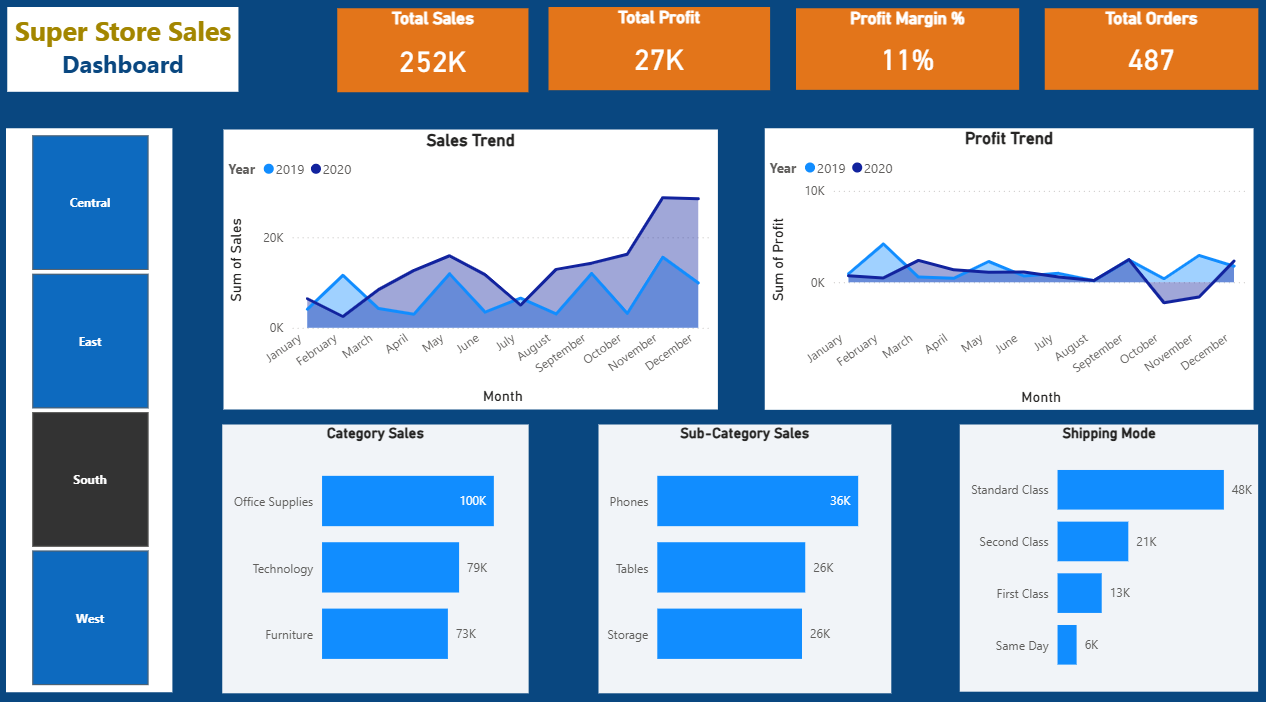

Layout of this report page (visuals, bound fields, positions):
{"tool":"powerbi","page":{"name":"Page 1","canvas":[1280,720],"ordinal":0},"visuals":[{"type":"clusteredBarChart","title":"Category Sales","fields":{"Category":["SuperStore_Sales_Dataset.Category"],"Y":["Sum(SuperStore_Sales_Dataset.Sales)"]},"box":[226.2,427.5,306.2,268.8],"z":0},{"type":"clusteredBarChart","title":"Sub-Category Sales","fields":{"Y":["Sum(SuperStore_Sales_Dataset.Sales)"],"Category":["SuperStore_Sales_Dataset.Sub-Category"]},"box":[602.5,427.5,292.5,268.8],"z":1000},{"type":"clusteredBarChart","title":"Shipping Mode","fields":{"Y":["Sum(SuperStore_Sales_Dataset.Sales)"],"Category":["SuperStore_Sales_Dataset.Ship Mode"]},"box":[963.8,427.5,298.8,267.5],"z":2000},{"type":"areaChart","title":"Profit Trend","fields":{"Category":["SuperStore_Sales_Dataset.Order Date.Variation.Date Hierarchy.Month"],"Series":["SuperStore_Sales_Dataset.Order Date.Variation.Date Hierarchy.Year"],"Y":["Sum(SuperStore_Sales_Dataset.Profit)"]},"box":[768.6,131.4,488.6,281.4],"z":3000},{"type":"slicer","fields":{"Values":["SuperStore_Sales_Dataset.Region"]},"box":[10,131.2,166.2,563.8],"z":4000},{"type":"textbox","box":[11.2,10,231.2,85],"z":5000},{"type":"card","title":"Total Sales","fields":{"Values":["Sum(SuperStore_Sales_Dataset.Sales)"]},"box":[341.4,11.4,191.4,84.3],"z":6000},{"type":"card","title":"Total Profit","fields":{"Values":["Sum(SuperStore_Sales_Dataset.Profit)"]},"box":[552.9,10,221.4,82.9],"z":7000},{"type":"card","title":"Profit Margin %","fields":{"Values":["SuperStore_Sales_Dataset.ProfitMargin"]},"box":[800,11.4,222.9,81.4],"z":8000},{"type":"card","title":"Total Orders","fields":{"Values":["SuperStore_Sales_Dataset.TotalOrders"]},"box":[1048.3,11.7,213.3,81.7],"z":9000},{"type":"areaChart","title":"Sales Trend","fields":{"Category":["SuperStore_Sales_Dataset.Order Date.Variation.Date Hierarchy.Month"],"Series":["SuperStore_Sales_Dataset.Order Date.Variation.Date Hierarchy.Year"],"Y":["Sum(SuperStore_Sales_Dataset.Sales)"]},"box":[227.1,132.9,494.3,280],"z":10000}]}

Visuals, with their boxes in screenshot pixels (x1, y1, x2, y2), scaled from the page's 1280x720 canvas onto the 1266x702 screenshot:
"Category Sales" clusteredBarChart: pyautogui.locateOnScreen(224, 417, 527, 679)
"Sub-Category Sales" clusteredBarChart: pyautogui.locateOnScreen(596, 417, 885, 679)
"Shipping Mode" clusteredBarChart: pyautogui.locateOnScreen(953, 417, 1249, 678)
"Profit Trend" areaChart: pyautogui.locateOnScreen(760, 128, 1243, 402)
slicer - SuperStore_Sales_Dataset.Region: pyautogui.locateOnScreen(10, 128, 174, 678)
textbox: pyautogui.locateOnScreen(11, 10, 240, 93)
"Total Sales" card: pyautogui.locateOnScreen(338, 11, 527, 93)
"Total Profit" card: pyautogui.locateOnScreen(547, 10, 766, 91)
"Profit Margin %" card: pyautogui.locateOnScreen(791, 11, 1012, 90)
"Total Orders" card: pyautogui.locateOnScreen(1037, 11, 1248, 91)
"Sales Trend" areaChart: pyautogui.locateOnScreen(225, 130, 714, 403)
